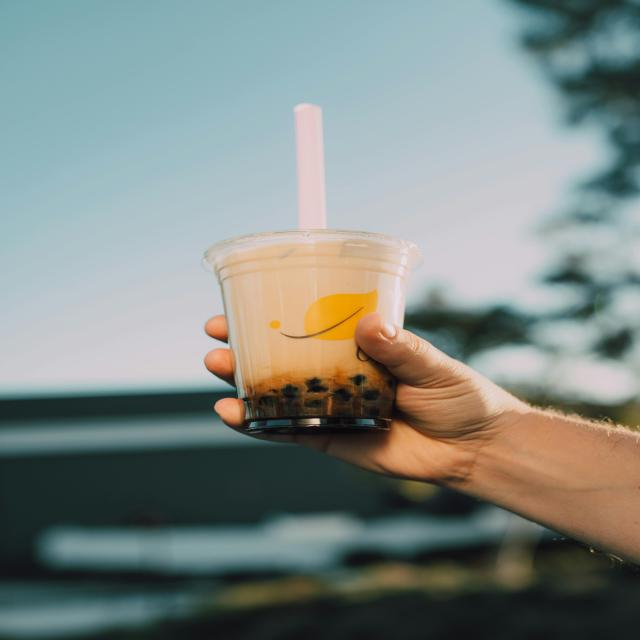cup: (202, 228, 424, 438)
